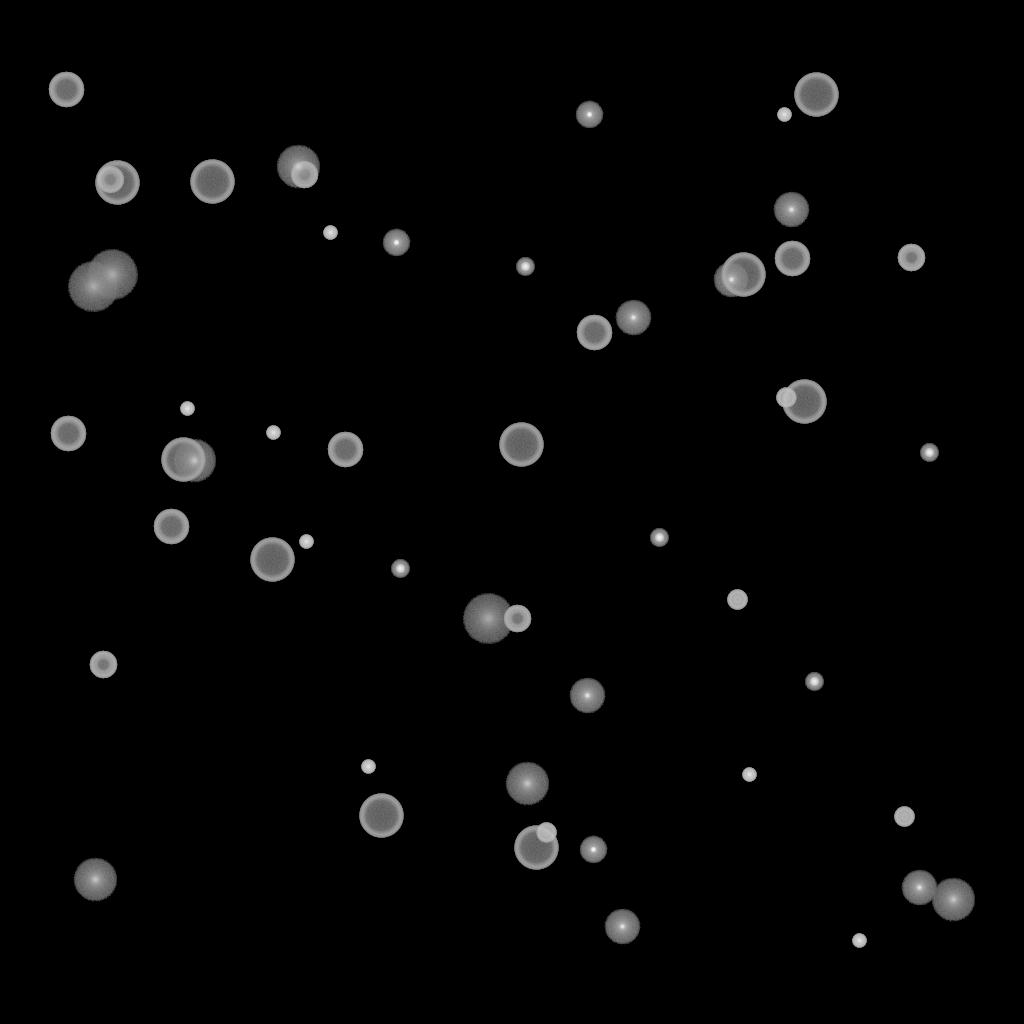depth:-10: (575, 101, 603, 129), (579, 836, 607, 864), (382, 229, 410, 257)
depth:-20: (805, 673, 823, 691), (391, 560, 409, 578), (920, 444, 938, 462), (516, 258, 534, 276), (650, 529, 668, 547)
depth:-30: (777, 108, 791, 122), (742, 768, 756, 782), (180, 402, 194, 416), (266, 426, 280, 440), (852, 934, 866, 948), (299, 535, 313, 549), (323, 226, 337, 240), (361, 760, 375, 774)
depth:-40: (776, 388, 796, 408), (536, 823, 556, 843), (894, 807, 914, 827), (727, 590, 747, 610)
depth:-50: (89, 651, 117, 679), (96, 166, 124, 194), (290, 161, 318, 189), (503, 605, 531, 633), (897, 244, 925, 272)
depth:-60: (327, 432, 363, 468), (50, 416, 86, 452), (576, 315, 612, 351), (774, 241, 810, 277), (153, 509, 189, 545), (48, 72, 84, 108)
depth:-70: (794, 73, 838, 117), (721, 253, 765, 297), (359, 794, 403, 838), (95, 161, 139, 205), (782, 380, 826, 424), (161, 438, 205, 482), (514, 826, 558, 870), (250, 538, 294, 582), (190, 160, 234, 204), (499, 423, 543, 467)
depth:0: (604, 909, 640, 945), (773, 192, 809, 228), (569, 678, 605, 714), (901, 870, 937, 906), (713, 262, 749, 298), (615, 300, 651, 336)
depth:10: (172, 439, 216, 483), (276, 145, 320, 189), (931, 878, 975, 922), (73, 858, 117, 902), (505, 762, 549, 806)
depth:20: (67, 262, 119, 312), (462, 594, 514, 644), (86, 250, 138, 300)
